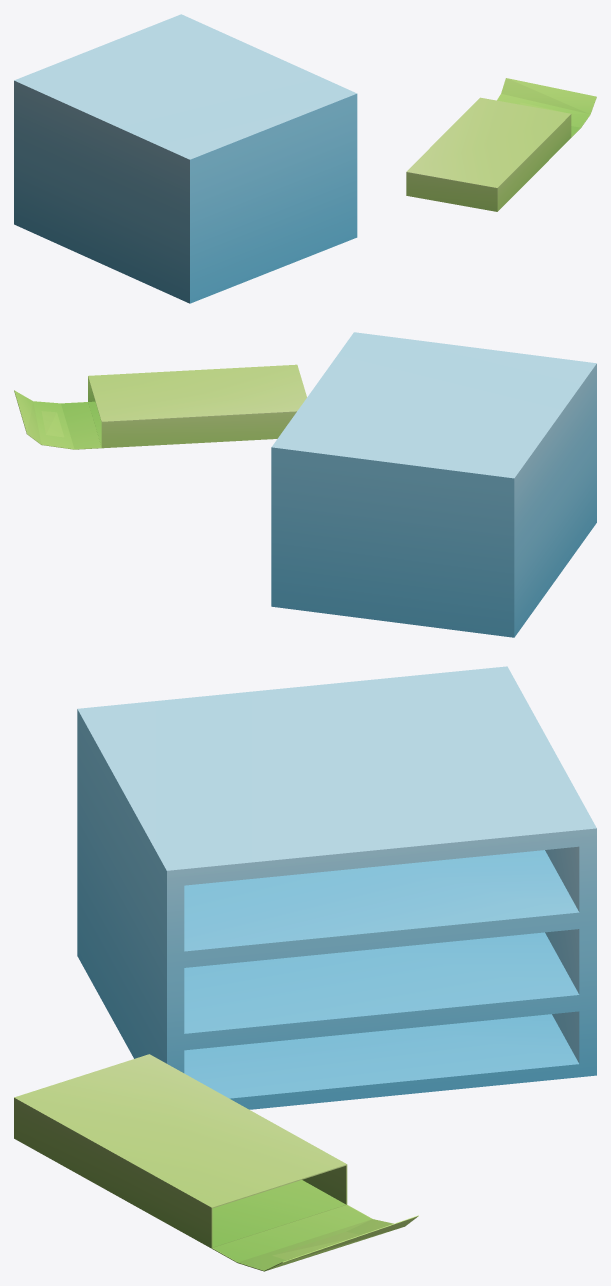
File: paper holder and pencil case.fbx
The picture shows the model from 3 angles, top to bottom: view 1: azimuth 30°, elevation 25°; view 2: azimuth 150°, elevation 25°; view 3: azimuth 270°, elevation 25°; orthographic projection. The views are drawn at different scales.
Visible parts, largest first — view 1: paper_holder, pencil_holder; view 2: paper_holder, pencil_holder; view 3: paper_holder, pencil_holder.
Part boxes in pixels (x1,y1,x2,y2): paper_holder: (14, 14, 357, 303); pencil_holder: (406, 78, 596, 211); paper_holder: (271, 332, 596, 637); pencil_holder: (14, 364, 306, 449); paper_holder: (77, 666, 596, 1109); pencil_holder: (14, 1054, 418, 1271).
Size of the model in its own units: 574 by 153 by 326.
